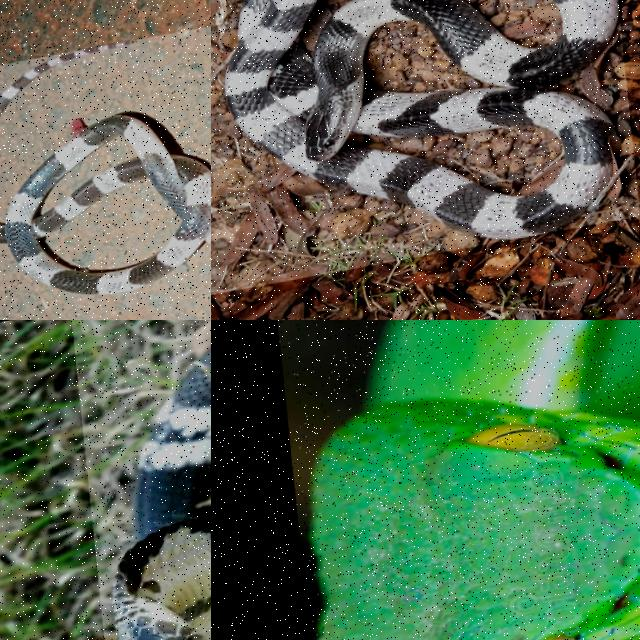Bungarus candidus: (225, 0, 617, 239), (0, 115, 210, 294)
Naja siamensis: (113, 348, 210, 639)
Trimeresurus macrops: (315, 320, 639, 639)
